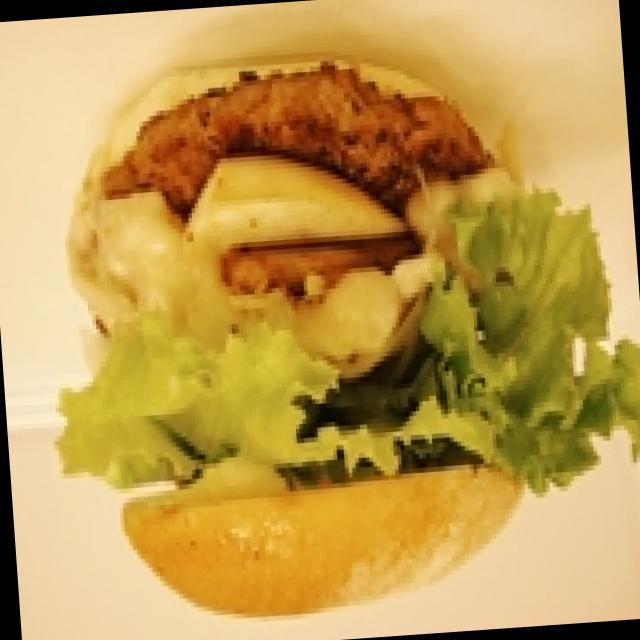Hamburger: (24, 26, 640, 640)
